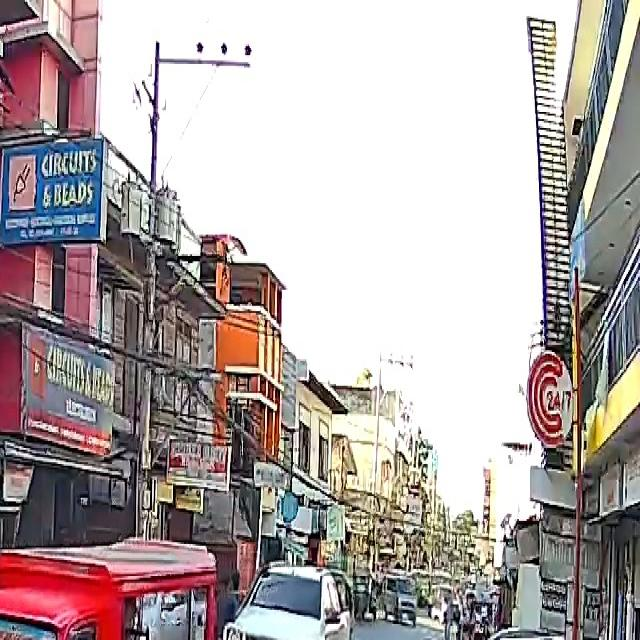car: (217, 560, 360, 640), (471, 624, 640, 640), (385, 577, 418, 623)
